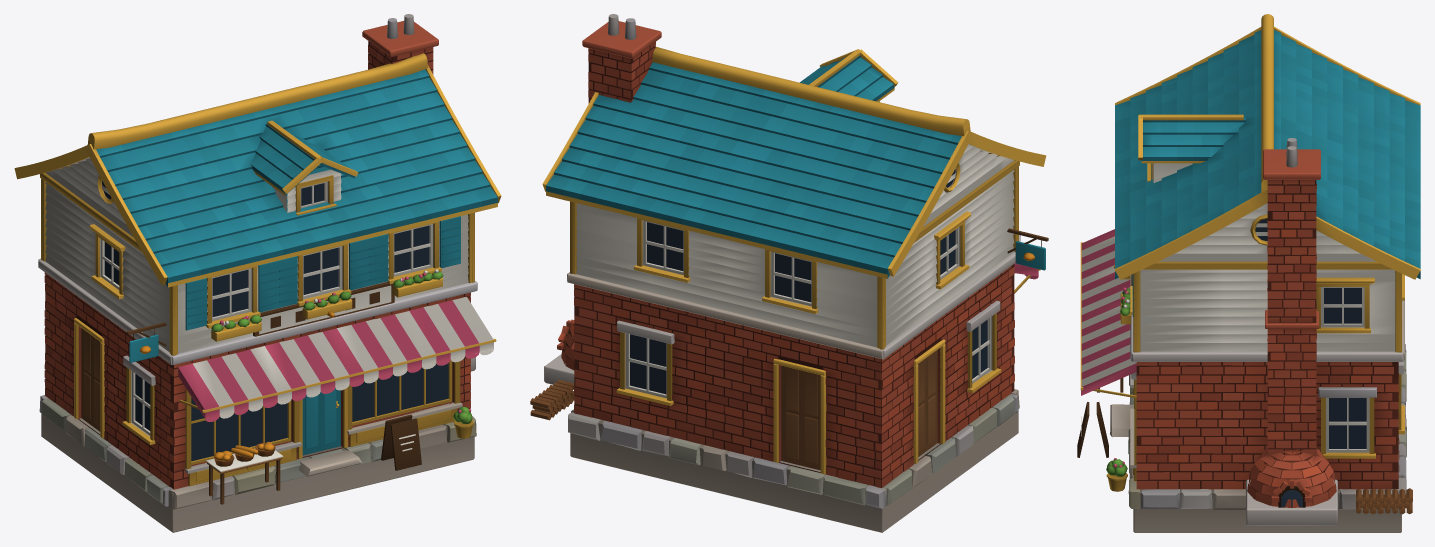
Rendered from bakery.glb.
3 views of the same model, side by side, from view 1: azimuth 30°, elevation 25°; view 2: azimuth 150°, elevation 25°; view 3: azimuth 270°, elevation 25° (orthographic). The views are drawn at different scales.
Visible parts, largest first — view 1: Bakery Roof teal, Bakery Clapboard, Bakery Trim, Bakery Brick, Bakery Window glow, Bakery Awning rose, Bakery Wood, Bakery Leaf; view 2: Bakery Clapboard, Bakery Roof teal, Bakery Brick, Bakery Trim, Bakery Wood, Bakery Window glow; view 3: Bakery Roof teal, Bakery Brick, Bakery Clapboard, Bakery Trim, Bakery Awning rose, Bakery Window glow, Bakery Wood, Bakery Leaf.
Part boxes in pixels (x1,y1,x2,y2): Bakery Roof teal: [96, 69, 497, 455]; Bakery Clapboard: [38, 14, 493, 532]; Bakery Trim: [14, 53, 501, 486]; Bakery Brick: [44, 21, 470, 489]; Bakery Window glow: [102, 181, 448, 461]; Bakery Awning rose: [178, 272, 479, 421]; Bakery Wood: [81, 282, 421, 504]; Bakery Leaf: [211, 271, 472, 423]; Bakery Clapboard: [544, 14, 1019, 532]; Bakery Roof teal: [546, 55, 1045, 278]; Bakery Brick: [557, 21, 1014, 487]; Bakery Trim: [542, 46, 1046, 474]; Bakery Wood: [530, 228, 1048, 470]; Bakery Window glow: [630, 169, 987, 394]; Bakery Roof teal: [1115, 30, 1420, 316]; Bakery Brick: [1136, 149, 1399, 507]; Bakery Clapboard: [1081, 138, 1406, 532]; Bakery Trim: [1080, 14, 1420, 491]; Bakery Awning rose: [1081, 229, 1136, 467]; Bakery Window glow: [1255, 218, 1366, 506]; Bakery Wood: [1077, 274, 1412, 514]; Bakery Leaf: [1106, 288, 1130, 476].
Size of the model in its own units: 9.6 by 8.9 by 7.07.
